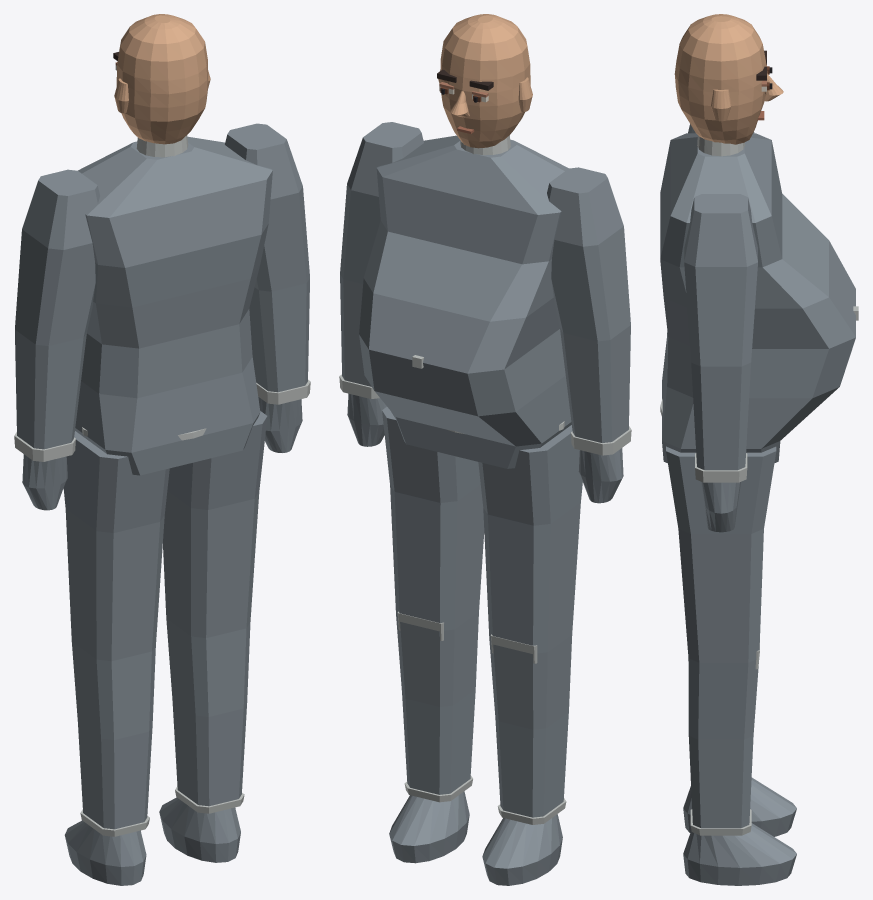
The model's file is visual-far.glb.
3 renders of one model, left to right at view 1: azimuth 30°, elevation 25°; view 2: azimuth 150°, elevation 25°; view 3: azimuth 270°, elevation 25°, orthographic.
Visible parts, largest first — view 1: 衣身腹段替换槽 · adultA, 孕期腹部造型替换件 · late, 精细成年头部母版; view 2: 衣身腹段替换槽 · adultA, 孕期腹部造型替换件 · late, 精细成年头部母版; view 3: 衣身腹段替换槽 · adultA, 孕期腹部造型替换件 · late, 精细成年头部母版.
Boxes of the visible parts, x1,y1,x2,y2 form: 衣身腹段替换槽 · adultA: [14, 123, 310, 885]; 孕期腹部造型替换件 · late: [75, 224, 268, 452]; 精细成年头部母版: [113, 14, 210, 144]; 衣身腹段替换槽 · adultA: [339, 122, 631, 885]; 孕期腹部造型替换件 · late: [359, 220, 571, 446]; 精细成年头部母版: [437, 14, 532, 148]; 衣身腹段替换槽 · adultA: [660, 124, 796, 885]; 孕期腹部造型替换件 · late: [660, 194, 858, 448]; 精细成年头部母版: [674, 14, 783, 144].
Bounding box in the file's own units: 0.5883 × 1.7 × 0.368.
Materials: 9 (9 with a texture image).
